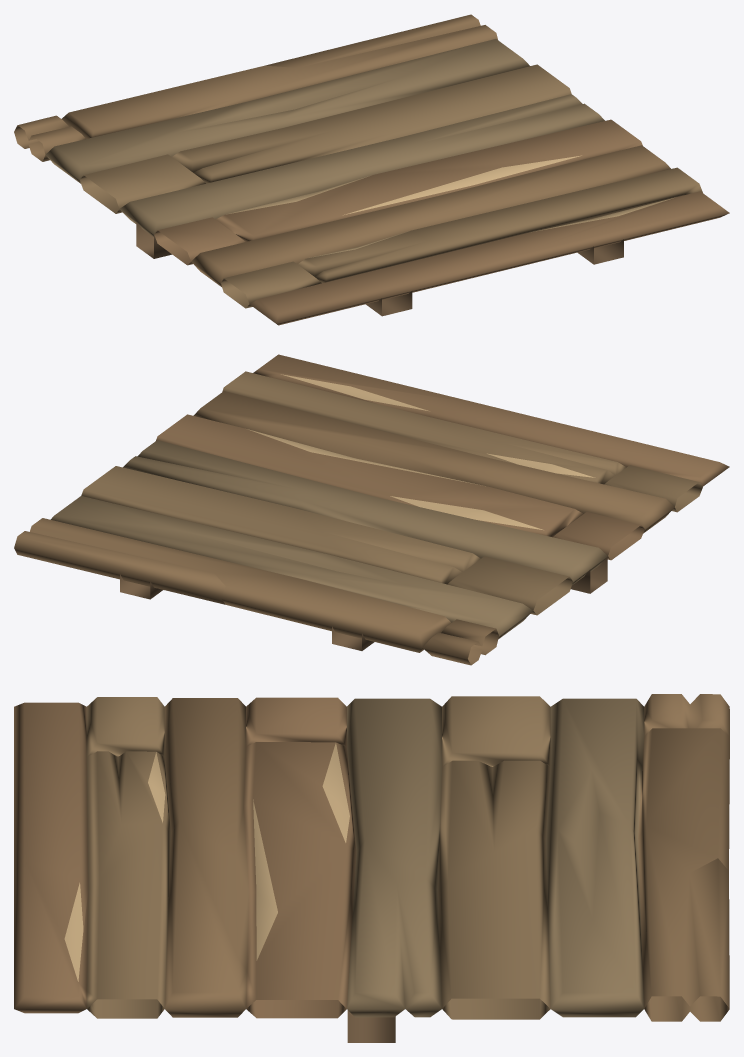
File: rpgpp_ag_floor_02b_3x3_2side.fbx
The picture shows the model from 3 angles, top to bottom: view 1: azimuth 30°, elevation 25°; view 2: azimuth 150°, elevation 25°; view 3: azimuth 270°, elevation 25°; orthographic projection. The views are drawn at different scales.
Parts seen in each view (by area): view 1: rpgpp_ag_floor_02b_3x3_2side; view 2: rpgpp_ag_floor_02b_3x3_2side; view 3: rpgpp_ag_floor_02b_3x3_2side.
Boxes of the visible parts, x1,y1,x2,y2 form: rpgpp_ag_floor_02b_3x3_2side: [14, 14, 729, 325]; rpgpp_ag_floor_02b_3x3_2side: [14, 354, 729, 665]; rpgpp_ag_floor_02b_3x3_2side: [14, 694, 729, 1042].
Bounding box in the file's own units: 3 × 0.2152 × 3.
